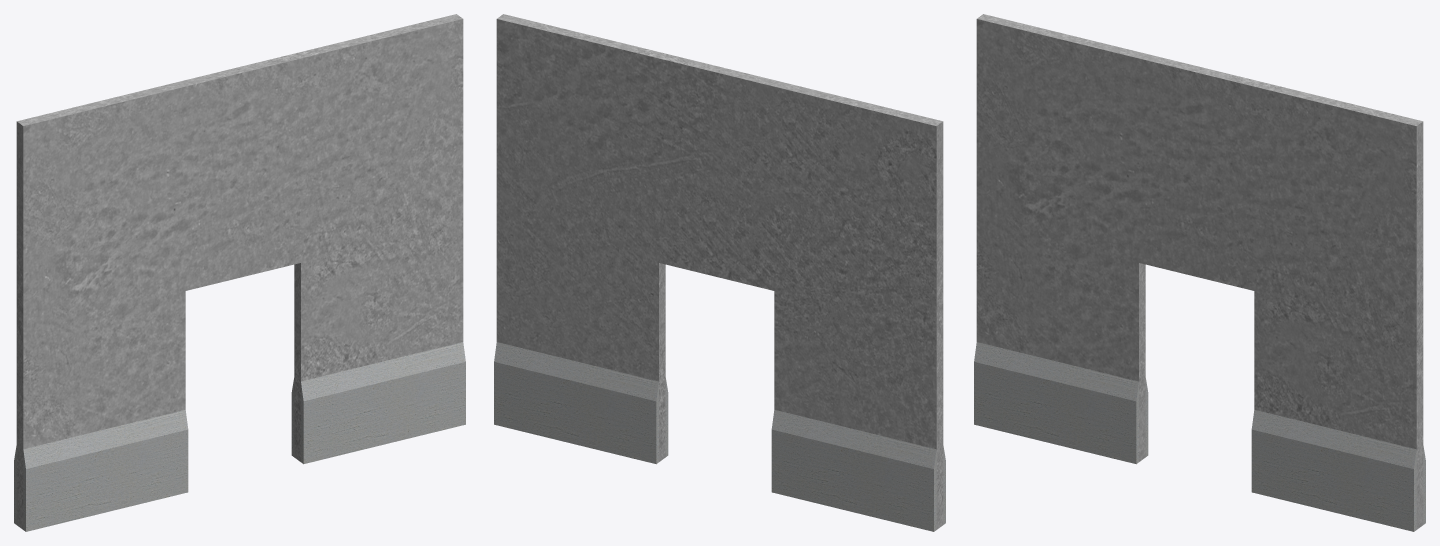
Rendered from Tutorial_Model_Structure_DoorFrame_1.fbx.
The picture shows the model from 3 angles, left to right: view 1: azimuth 30°, elevation 25°; view 2: azimuth 150°, elevation 25°; view 3: azimuth 330°, elevation 25°; orthographic projection.
Visible parts, largest first — view 1: Door_Frame_Wall, Low Extruded Wall001, Low Extruded Wall002; view 2: Door_Frame_Wall, Low Extruded Wall003, Low Extruded Wall004; view 3: Door_Frame_Wall, Low Extruded Wall002, Low Extruded Wall001.
Part boxes in pixels (bbox=[...]): Door_Frame_Wall: bbox=[16, 14, 463, 529]; Low Extruded Wall001: bbox=[23, 410, 188, 531]; Low Extruded Wall002: bbox=[301, 342, 465, 464]; Door_Frame_Wall: bbox=[496, 14, 943, 529]; Low Extruded Wall003: bbox=[771, 410, 936, 531]; Low Extruded Wall004: bbox=[494, 342, 658, 464]; Door_Frame_Wall: bbox=[976, 14, 1423, 529]; Low Extruded Wall002: bbox=[1251, 410, 1416, 531]; Low Extruded Wall001: bbox=[974, 342, 1138, 464].
Bounding box in the file's own units: 224 × 197 × 10.52.
Materials: 2 (2 with a texture image).
